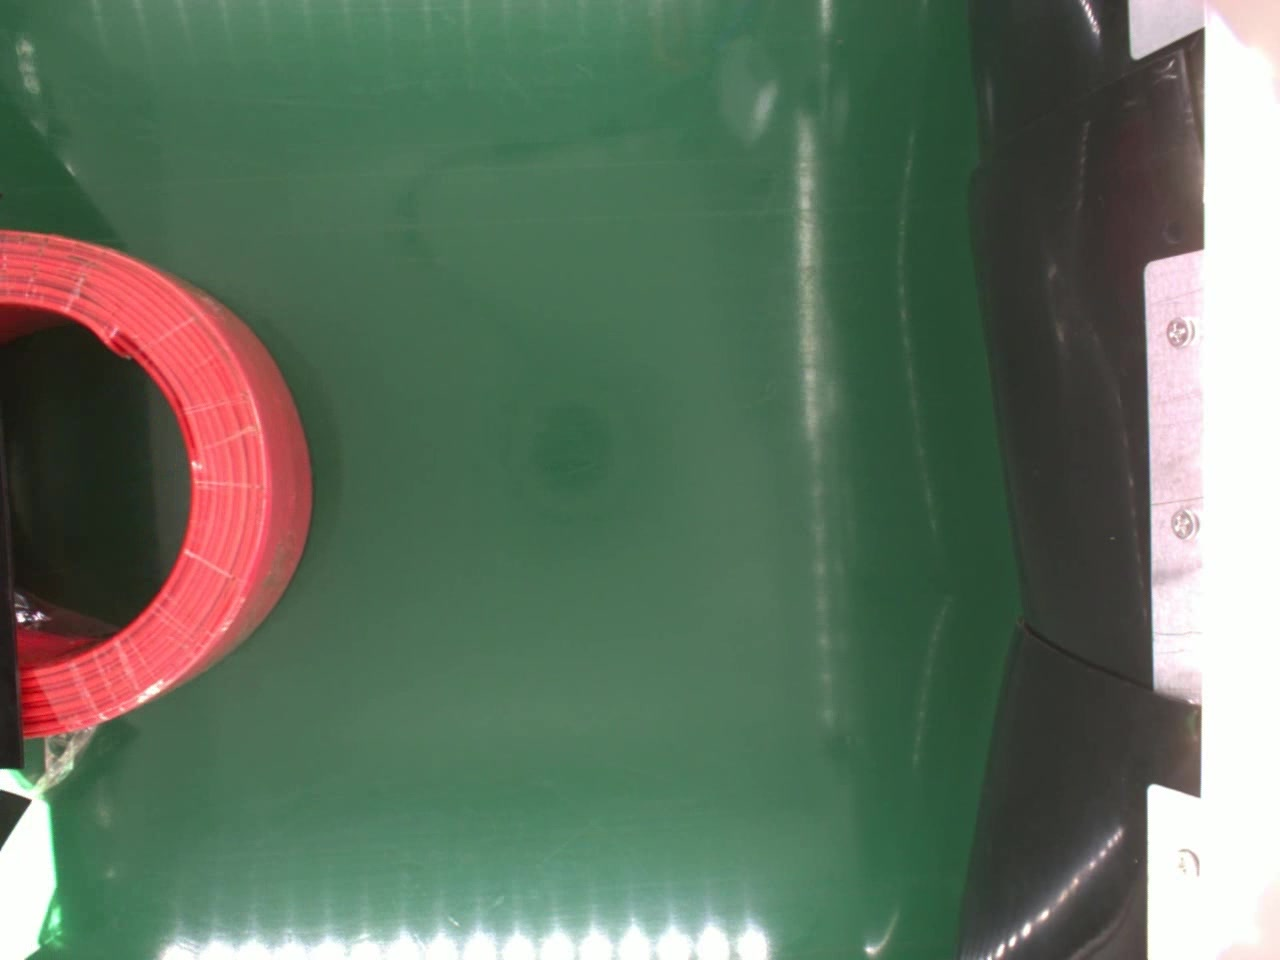red: (0, 225, 312, 744)
